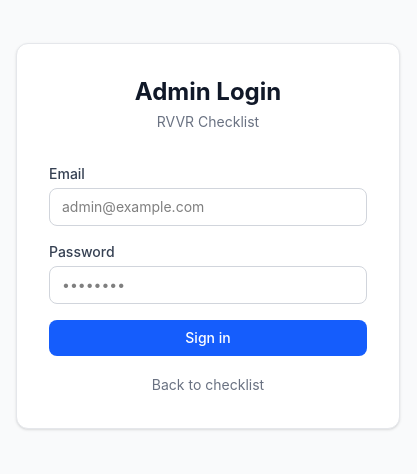
Test: AdminLogin form › shows an error message on login failure
Type "bad@test.com" into the field labelled "Email" at point(208, 207), box 49,188 -> 367,226
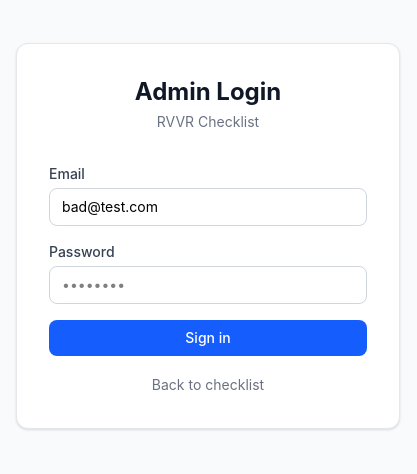
Type "wrong" into the password field labelled "Password" at point(208, 285), box 49,266 -> 367,304
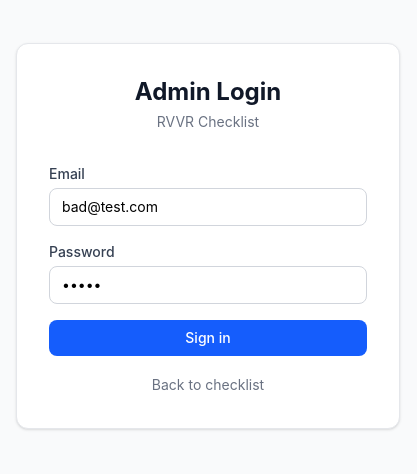
Submit the form "Email Password Sign in", box 49,164 -> 367,356
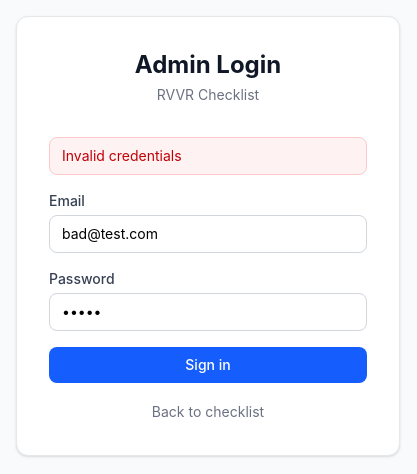
expect the text "Invalid credentials" is shown: met, box 49,137 -> 367,175
